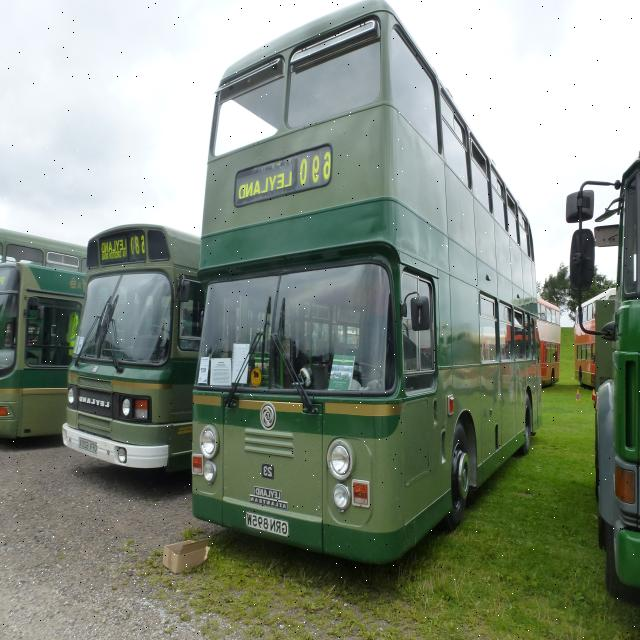Bus: (193, 0, 541, 555), (65, 225, 204, 468), (570, 156, 640, 592), (1, 261, 86, 435), (575, 289, 615, 392), (0, 233, 88, 278), (538, 299, 560, 385)
